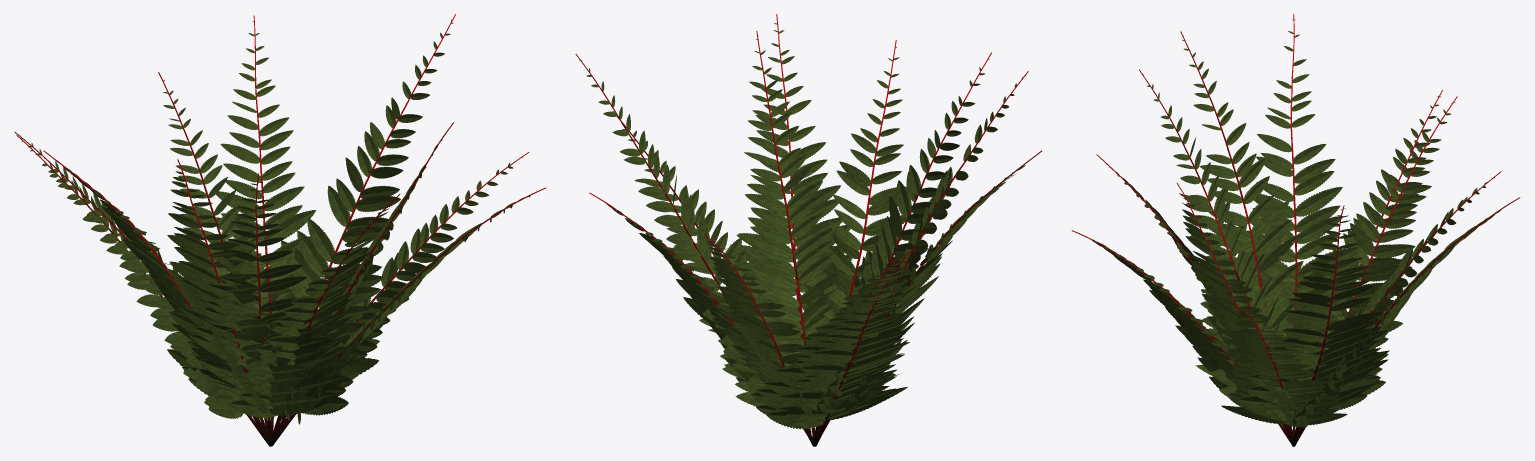
Rendered from bracken_v01.fbx.
3 renders of one model, left to right at view 1: azimuth 30°, elevation 25°; view 2: azimuth 150°, elevation 25°; view 3: azimuth 270°, elevation 25°, orthographic. The views are drawn at different scales.
Parts seen in each view (by area): view 1: bracken_v01; view 2: bracken_v01; view 3: bracken_v01.
Boxes of the visible parts, <box> form: bracken_v01: <box>14,14,546,446</box>; bracken_v01: <box>575,14,1041,446</box>; bracken_v01: <box>1071,14,1520,446</box>.
Size of the model in its own units: 167 by 128 by 151.
